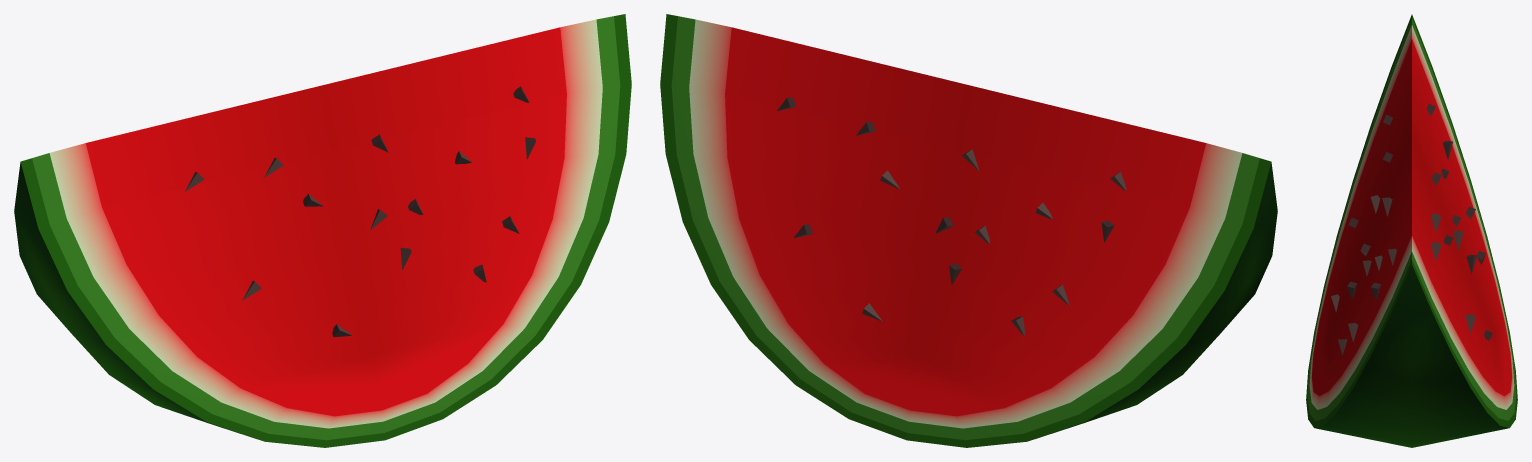
Rendered from Watermelon_Slice.fbx.
The picture shows the model from 3 angles, left to right: view 1: azimuth 30°, elevation 25°; view 2: azimuth 150°, elevation 25°; view 3: azimuth 270°, elevation 25°; orthographic projection. The views are drawn at different scales.
Visible parts, largest first — view 1: Watermelon_Slice; view 2: Watermelon_Slice; view 3: Watermelon_Slice.
Boxes of the visible parts, x1,y1,x2,y2 form: Watermelon_Slice: (14,14,631,447); Watermelon_Slice: (660,14,1277,447); Watermelon_Slice: (1306,14,1517,447).
Size of the model in its own units: 56.01 by 29.62 by 20.
